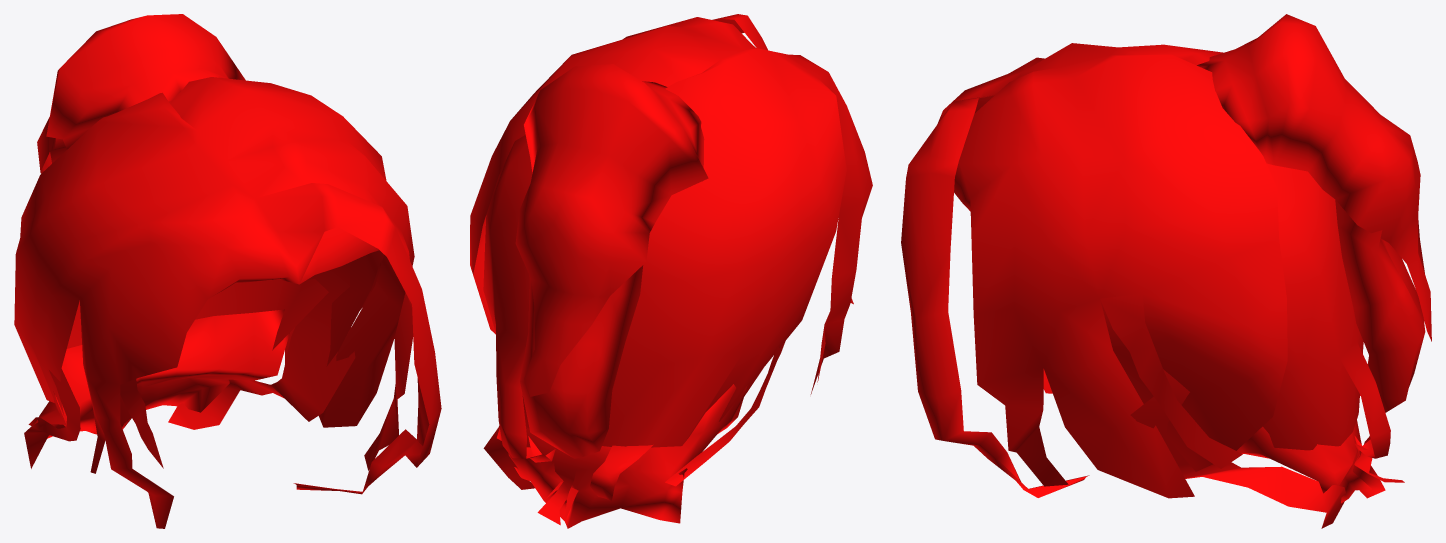
Rendered from faydaen_hair_1_F.glb.
3 views of the same model, side by side, from view 1: azimuth 30°, elevation 25°; view 2: azimuth 150°, elevation 25°; view 3: azimuth 270°, elevation 25° (orthographic). The views are drawn at different scales.
Bounding box in the file's own units: 0.1885 × 0.246 × 0.2513.
1 material, 1 textured.
